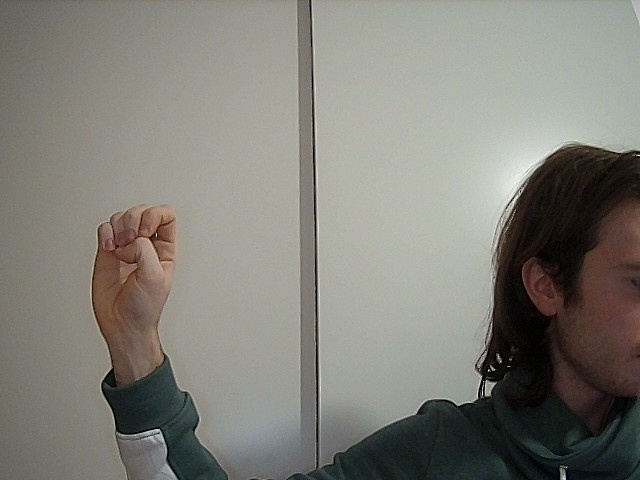e: (83, 196, 192, 330)
